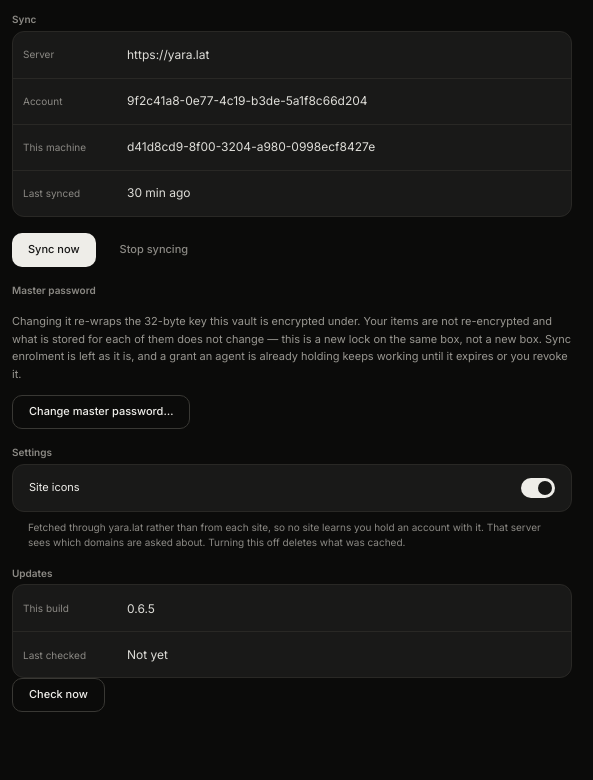
changing the master password › repeats the vault's own answer when the current password is wrong
Click the button "Change master password…" at (101, 412), box [12,395,190,429]
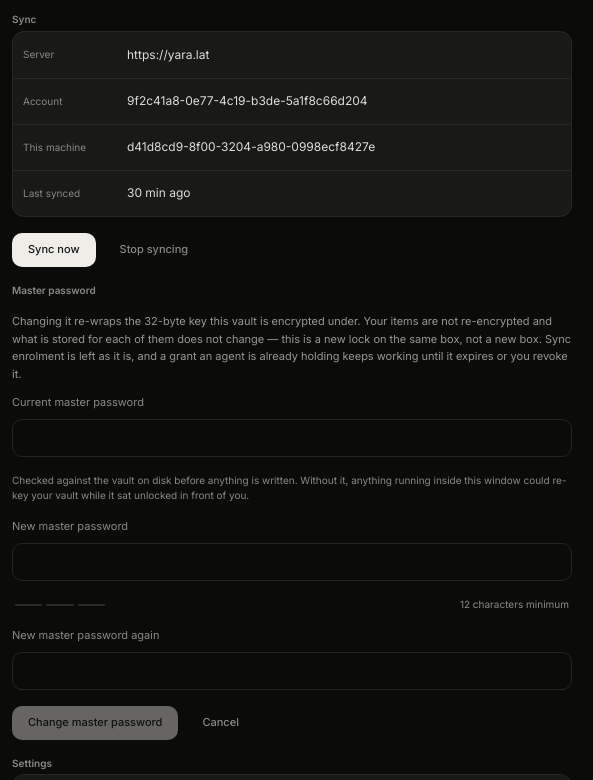
Type "not the one" into the password field labelled "Current master password" at (292, 438), box [12,419,572,457]
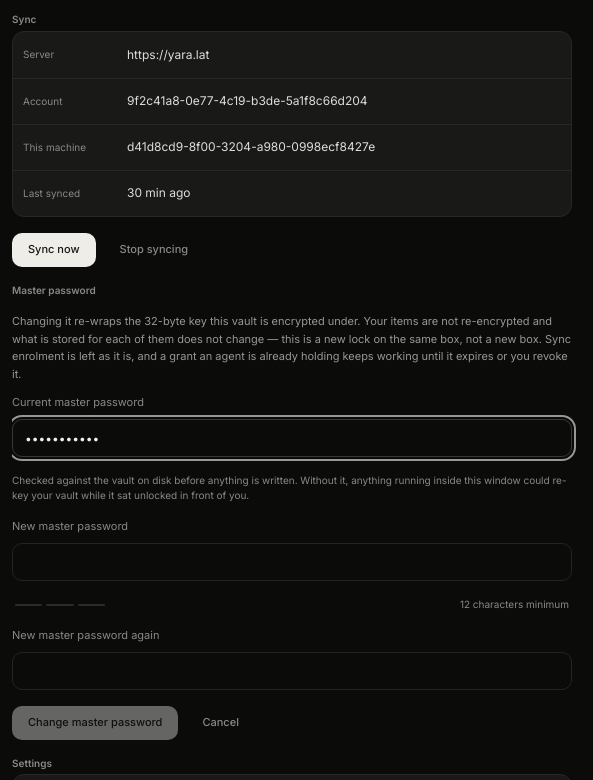
Type "correct horse battery 7!" into the password field labelled "New master password" at (292, 562), box [12,543,572,581]
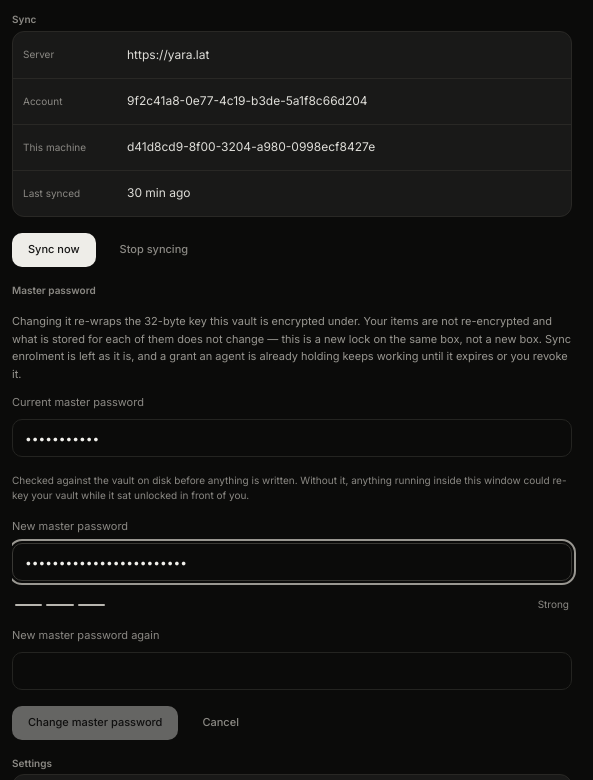
Type "correct horse battery 7!" into the password field labelled "New master password again" at (292, 671), box [12,652,572,690]
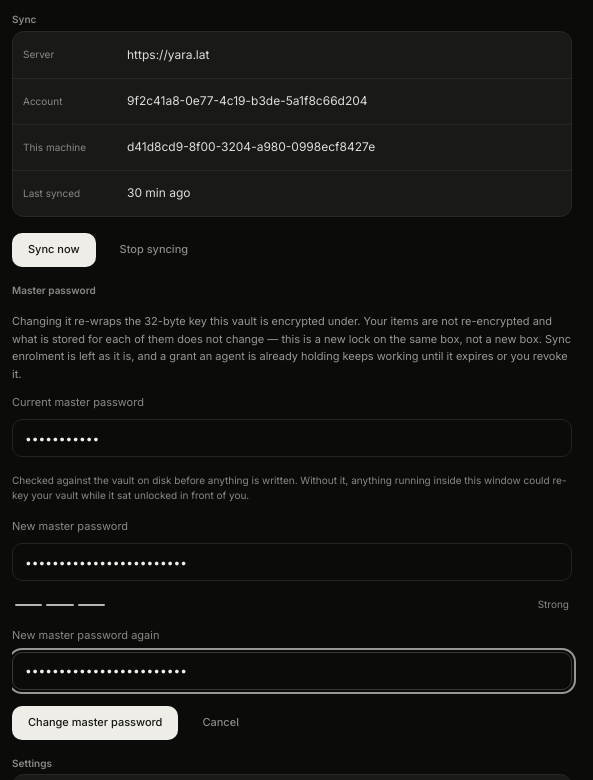
Click the button "Change master password" at (95, 723), box [12,706,178,740]
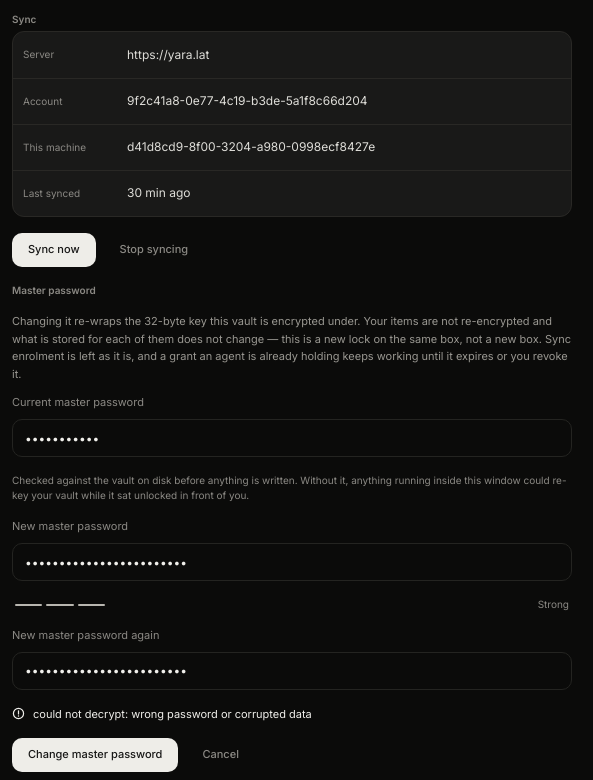
Result: the message reads "could not decrypt: wrong password or corrupted data" at [33,707,312,721]
